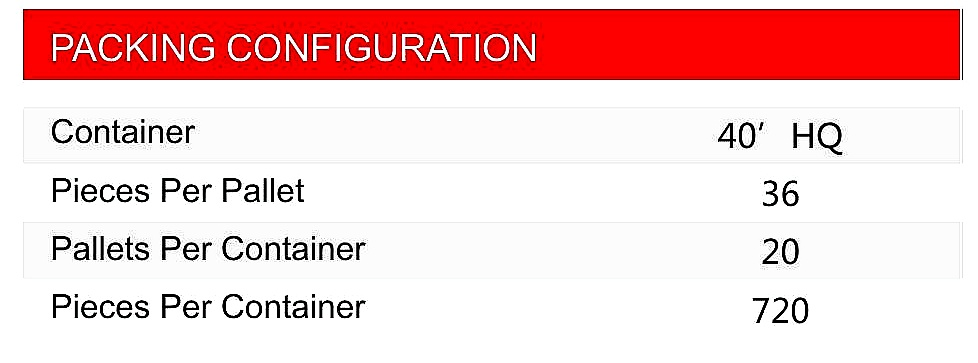table: (18, 3, 968, 341)
table column: (25, 12, 619, 338), (621, 10, 958, 339)
table name: (26, 12, 956, 74)
table row: (26, 99, 958, 163), (26, 279, 960, 342), (21, 16, 961, 77), (23, 164, 960, 223), (24, 226, 962, 278)
table row header: (26, 12, 623, 339)
table spanning cell: (22, 14, 958, 79)
